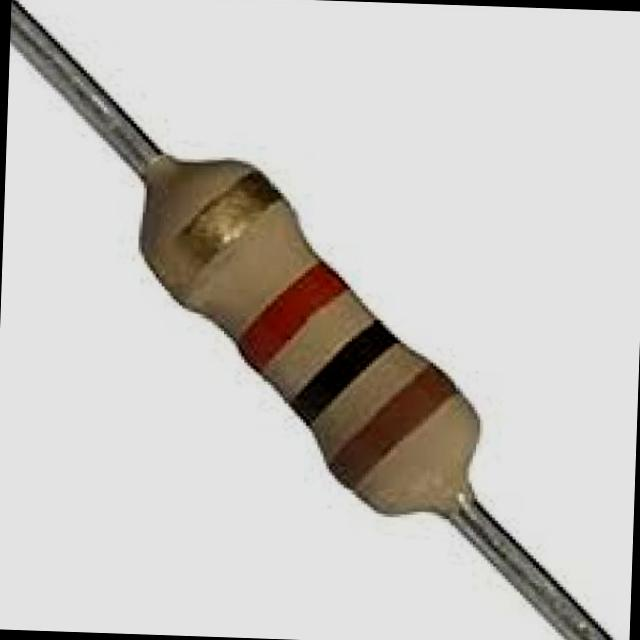Resistor: (122, 152, 492, 518)
